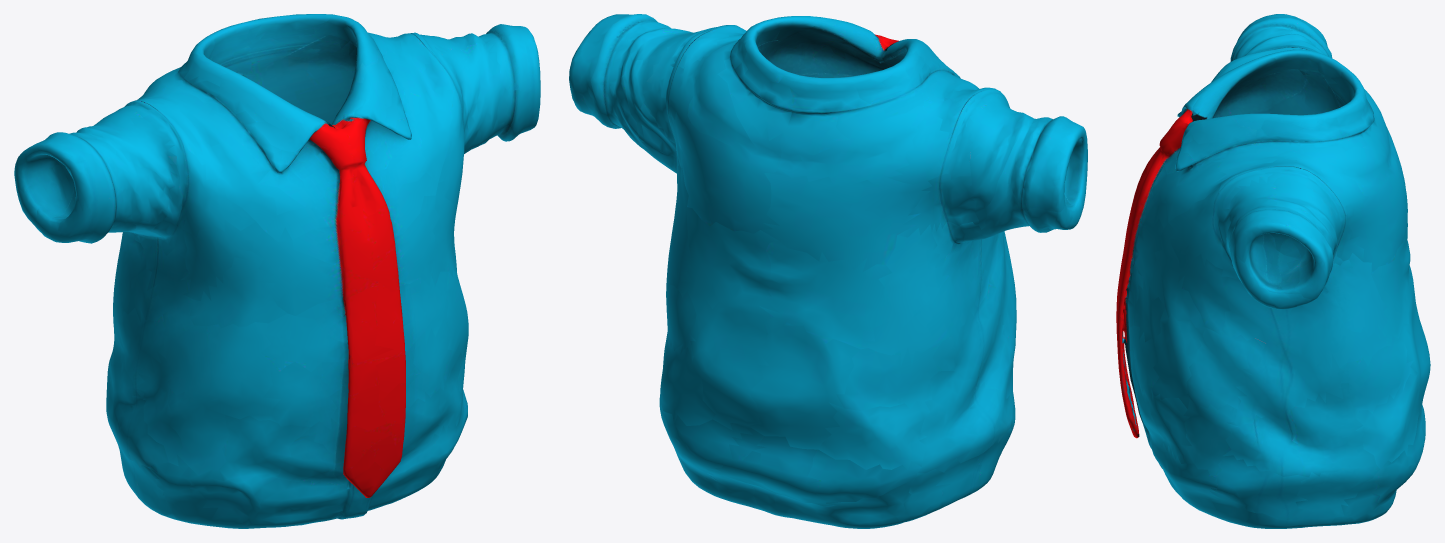
File: Business-v2.glb
The picture shows the model from 3 angles, left to right: view 1: azimuth 30°, elevation 25°; view 2: azimuth 150°, elevation 25°; view 3: azimuth 270°, elevation 25°; orthographic projection. The views are drawn at different scales.
Visible parts, largest first — view 1: Business-v2; view 2: Business-v2; view 3: Business-v2.
Boxes of the visible parts, x1=… form: Business-v2: x1=14, y1=14, x2=540, y2=528; Business-v2: x1=569, y1=14, x2=1087, y2=528; Business-v2: x1=1116, y1=14, x2=1430, y2=528.
Size of the model in its own units: 0.5557 by 0.4739 by 0.3351.
Materials: 1 (1 with a texture image).
